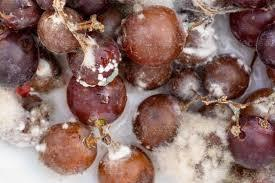Grape Rotten: (1, 0, 274, 182)
